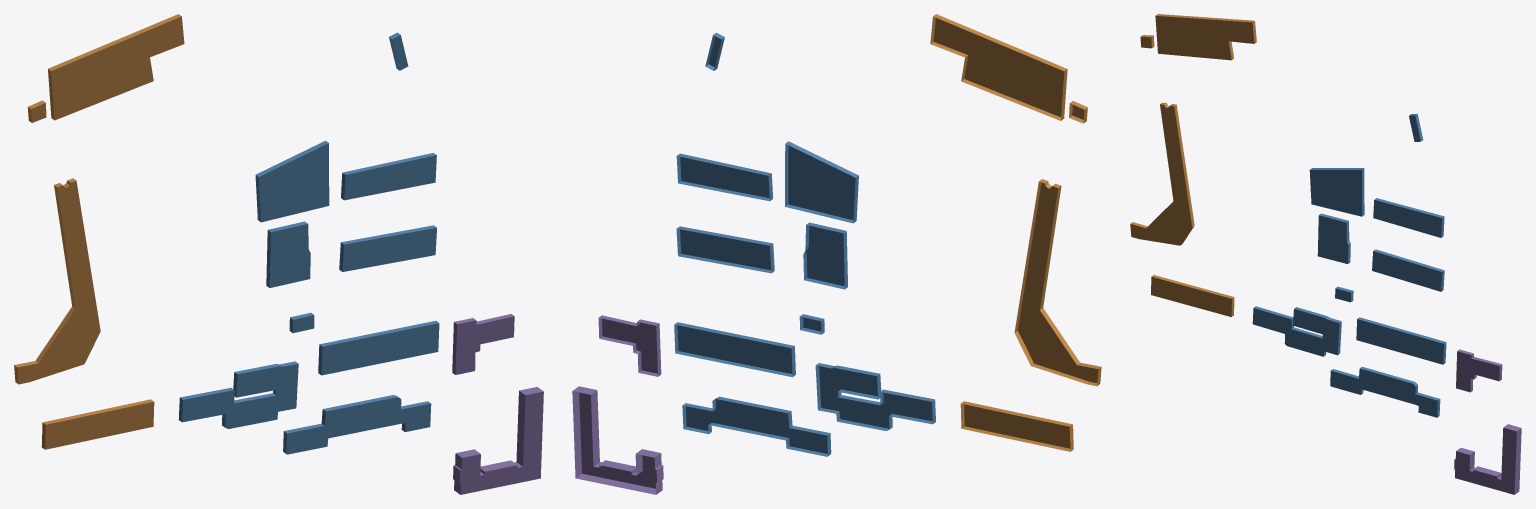
The model's file is buildings_k15.obj.
3 renders of one model, left to right at view 1: azimuth 30°, elevation 25°; view 2: azimuth 150°, elevation 25°; view 3: azimuth 330°, elevation 25°, orthographic. The views are drawn at different scales.
Visible parts, largest first — view 1: roof4, roof2, roof5, zone4, zone2, zone5; view 2: roof4, roof2, zone4, zone2, roof5, zone5; view 3: roof4, roof2, roof5, zone4, zone2, zone5.
Boxes of the visible parts, x1,y1,x2,y2 form: roof4: [182, 35, 439, 454]; roof2: [17, 16, 184, 449]; roof5: [455, 316, 543, 494]; zone4: [178, 32, 438, 454]; zone2: [14, 14, 181, 449]; zone5: [452, 314, 543, 494]; roof4: [677, 36, 932, 453]; roof2: [933, 18, 1098, 448]; zone4: [674, 32, 935, 456]; zone2: [930, 14, 1101, 451]; roof5: [579, 318, 657, 488]; zone5: [572, 315, 663, 494]; roof4: [1252, 115, 1443, 417]; roof2: [1130, 16, 1254, 316]; roof5: [1454, 351, 1516, 494]; zone4: [1254, 113, 1446, 417]; zone2: [1130, 14, 1256, 316]; zone5: [1455, 349, 1521, 494].
Bounding box in the file's own units: 394 × 393 × 8.5.
